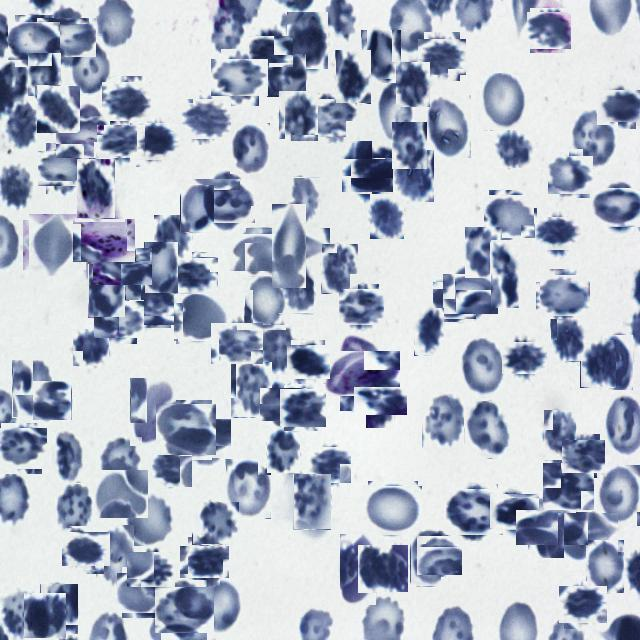difficult: (78, 215, 130, 268)
red blood cell: (258, 216, 318, 275), (27, 216, 82, 274), (158, 402, 214, 458), (130, 378, 176, 446), (366, 483, 420, 538), (568, 110, 618, 169), (558, 513, 618, 562), (198, 174, 252, 228), (458, 338, 506, 398), (426, 95, 471, 158), (60, 110, 114, 162), (225, 459, 271, 519), (448, 486, 501, 538), (157, 584, 210, 636), (596, 464, 640, 526), (464, 401, 510, 459), (125, 492, 174, 546), (196, 577, 243, 633), (481, 72, 526, 130), (174, 292, 226, 342), (340, 532, 376, 604), (96, 470, 150, 518), (422, 394, 468, 448), (42, 13, 92, 62), (544, 461, 593, 511), (96, 437, 142, 490), (70, 34, 112, 92), (96, 525, 134, 589), (288, 12, 330, 69), (276, 177, 321, 230), (230, 362, 272, 418), (546, 489, 588, 545), (358, 545, 408, 592), (12, 360, 52, 418), (180, 414, 228, 462), (539, 272, 587, 320), (486, 192, 534, 240), (216, 54, 264, 102), (98, 242, 146, 290), (522, 504, 570, 552), (446, 270, 494, 318), (244, 276, 286, 330), (378, 79, 414, 142), (213, 320, 260, 368), (77, 159, 115, 218), (52, 485, 94, 536), (393, 150, 434, 202), (410, 531, 448, 587), (293, 474, 331, 530), (361, 30, 401, 83), (594, 185, 640, 231), (182, 96, 228, 142), (119, 570, 165, 616), (12, 18, 58, 64), (126, 280, 172, 326), (586, 540, 624, 594), (230, 123, 270, 174), (278, 91, 318, 142), (309, 96, 354, 141), (0, 426, 44, 472), (192, 502, 239, 545), (37, 86, 80, 133), (490, 240, 519, 309), (88, 264, 125, 318), (104, 79, 149, 123), (96, 296, 140, 341), (3, 96, 40, 149), (335, 50, 371, 104), (40, 584, 78, 635), (347, 154, 391, 198), (133, 120, 177, 164), (234, 230, 278, 274), (278, 262, 314, 315), (42, 147, 86, 190), (24, 593, 66, 638), (465, 227, 502, 278), (1, 589, 39, 638), (321, 244, 358, 294), (493, 490, 535, 533), (421, 36, 464, 78), (174, 254, 216, 297), (550, 154, 592, 197), (282, 386, 324, 429), (418, 534, 461, 576), (50, 430, 83, 484), (144, 242, 178, 294), (130, 549, 172, 591), (562, 584, 604, 626), (601, 335, 633, 390), (580, 340, 616, 388), (341, 286, 382, 328), (66, 528, 107, 570), (154, 215, 192, 260), (528, 10, 569, 51), (392, 120, 427, 168), (100, 122, 142, 162), (267, 54, 306, 97), (183, 542, 224, 582), (360, 381, 400, 422), (180, 185, 214, 233), (435, 280, 475, 320), (264, 384, 304, 424), (310, 444, 350, 484), (538, 214, 578, 254), (288, 342, 328, 382), (504, 338, 544, 378), (27, 53, 61, 100), (32, 382, 72, 421), (564, 436, 603, 476), (152, 449, 192, 488), (600, 86, 640, 125), (550, 319, 586, 362), (343, 141, 372, 194), (370, 194, 404, 239), (396, 62, 430, 107), (64, 528, 99, 571), (262, 325, 294, 372), (543, 410, 576, 455), (267, 428, 300, 473), (494, 130, 532, 168), (414, 308, 444, 356), (252, 33, 290, 70), (72, 329, 109, 367), (368, 152, 403, 188)
trophozoite: (332, 343, 393, 403)
